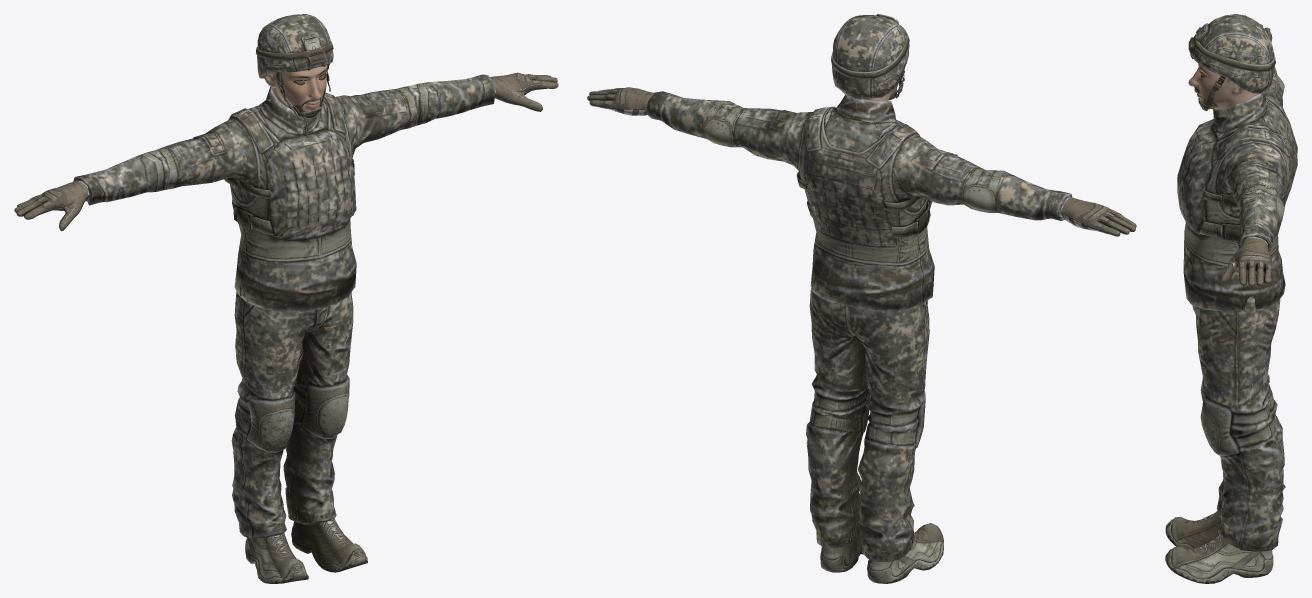
3 views of the same model, side by side, from view 1: azimuth 30°, elevation 25°; view 2: azimuth 150°, elevation 25°; view 3: azimuth 270°, elevation 25° (orthographic).
Parts seen in each view (by area): view 1: Tops, Bottoms, Shoes, Hats, Gloves, Body; view 2: Tops, Bottoms, Hats, Shoes, Gloves; view 3: Tops, Bottoms, Hats, Shoes, Gloves, Body.
Part boxes in pixels (left/top/right/bottom): Tops: left=73, top=74, right=494, bottom=312; Bottoms: left=231, top=291, right=353, bottom=538; Shoes: left=245, top=518, right=367, bottom=583; Hats: left=256, top=14, right=333, bottom=119; Gloves: left=14, top=72, right=558, bottom=231; Body: left=264, top=65, right=327, bottom=117; Tops: left=646, top=91, right=1072, bottom=310; Bottoms: left=806, top=288, right=929, bottom=562; Hats: left=831, top=14, right=909, bottom=100; Shoes: left=820, top=523, right=943, bottom=583; Gloves: left=587, top=87, right=1136, bottom=236; Tops: left=1177, top=66, right=1297, bottom=311; Bottoms: left=1192, top=296, right=1285, bottom=551; Hats: left=1188, top=14, right=1275, bottom=111; Shoes: left=1165, top=511, right=1273, bottom=583; Gloves: left=1221, top=24, right=1272, bottom=286; Body: left=1188, top=64, right=1257, bottom=109.
Bounding box in the file's own units: 194 × 186 × 41.35.
6 materials, 6 textured.
